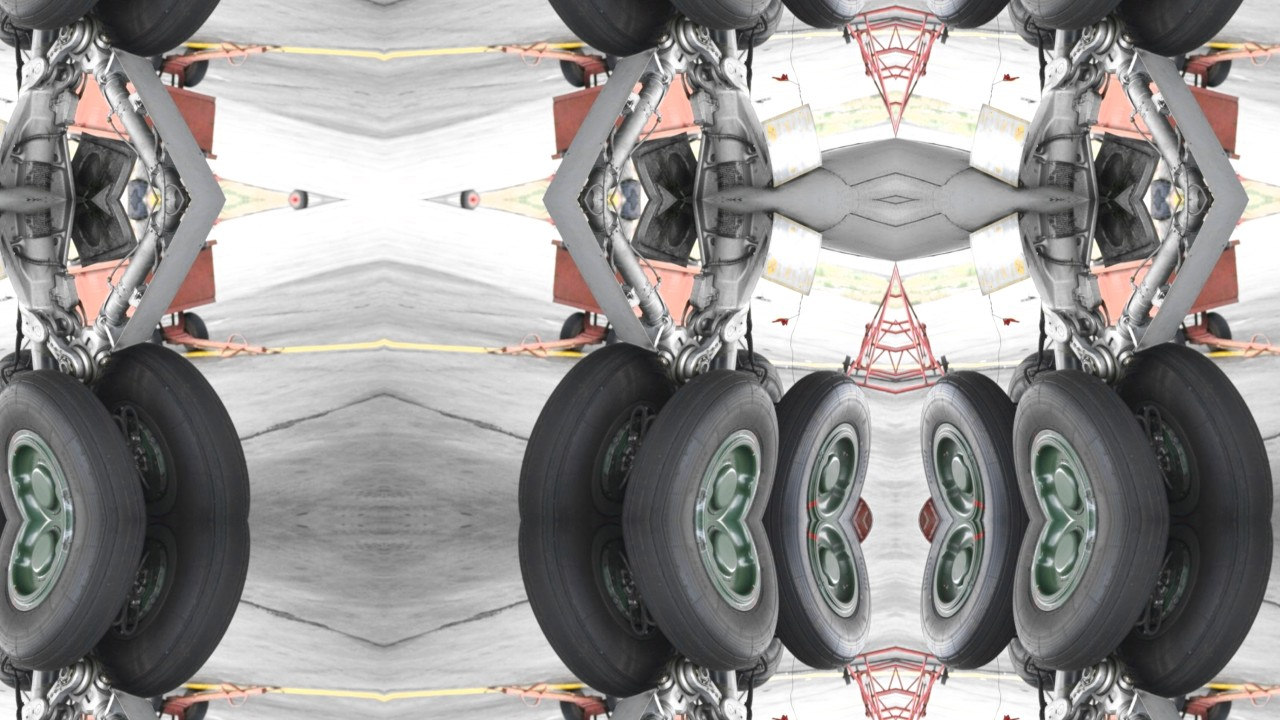chock: (831, 491, 895, 521), (897, 491, 961, 521), (831, 521, 895, 550), (897, 521, 961, 550)
wheel: (83, 327, 276, 520), (492, 327, 685, 520), (83, 521, 276, 714), (492, 521, 685, 714), (600, 520, 801, 691), (991, 520, 1192, 691), (600, 350, 801, 520), (991, 350, 1192, 520), (1107, 327, 1280, 520), (1107, 521, 1280, 714), (0, 520, 168, 691), (0, 350, 168, 520), (746, 358, 887, 521), (905, 358, 1046, 521), (746, 521, 887, 683), (905, 521, 1046, 683), (83, 0, 276, 72), (492, 0, 685, 72), (1107, 0, 1280, 72), (600, 0, 801, 49), (991, 0, 1192, 49), (0, 0, 168, 49), (746, 0, 887, 41), (905, 0, 1046, 41), (723, 346, 793, 404), (999, 346, 1069, 404), (723, 637, 793, 695), (999, 637, 1069, 695), (723, 0, 793, 53), (999, 0, 1069, 53), (0, 358, 22, 521), (0, 521, 22, 683), (0, 346, 45, 404), (0, 637, 45, 695), (0, 0, 45, 53)
